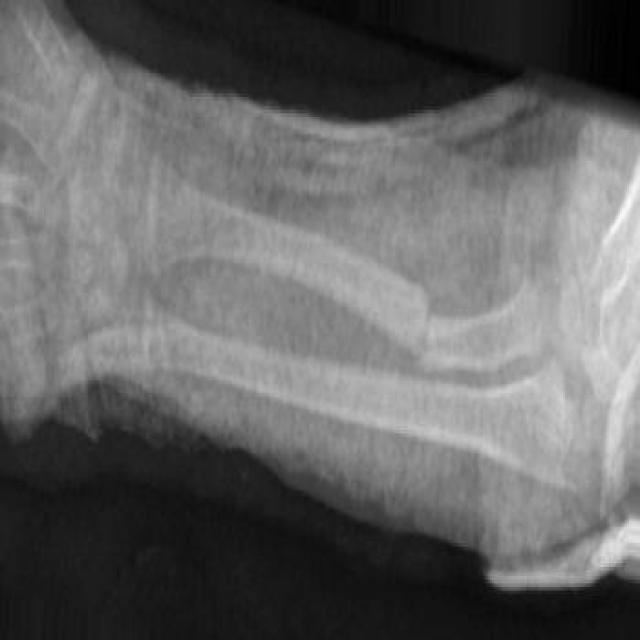Fracture: (410, 281, 442, 374)
